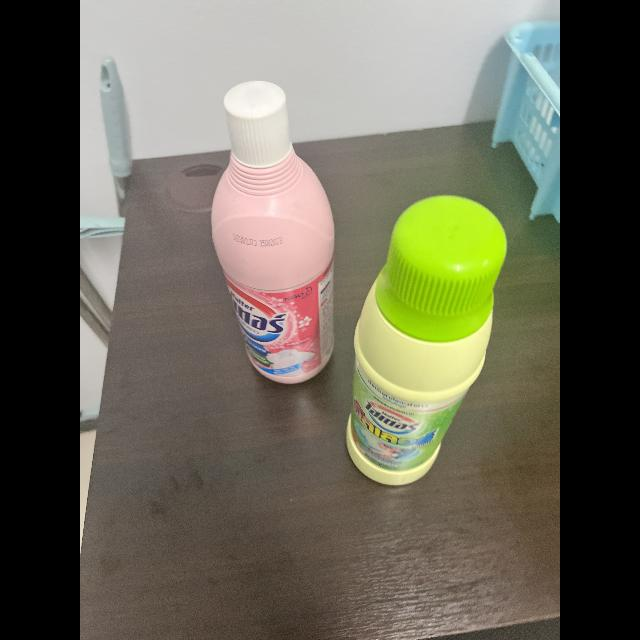chemical_plastic_bottle: (336, 187, 514, 488), (204, 81, 342, 385)
